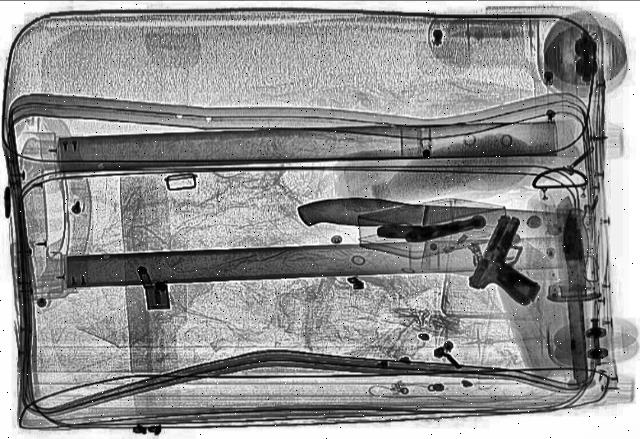Gun: (455, 212, 571, 306), (374, 206, 491, 248)
Knife: (291, 188, 595, 278), (541, 198, 611, 388)
